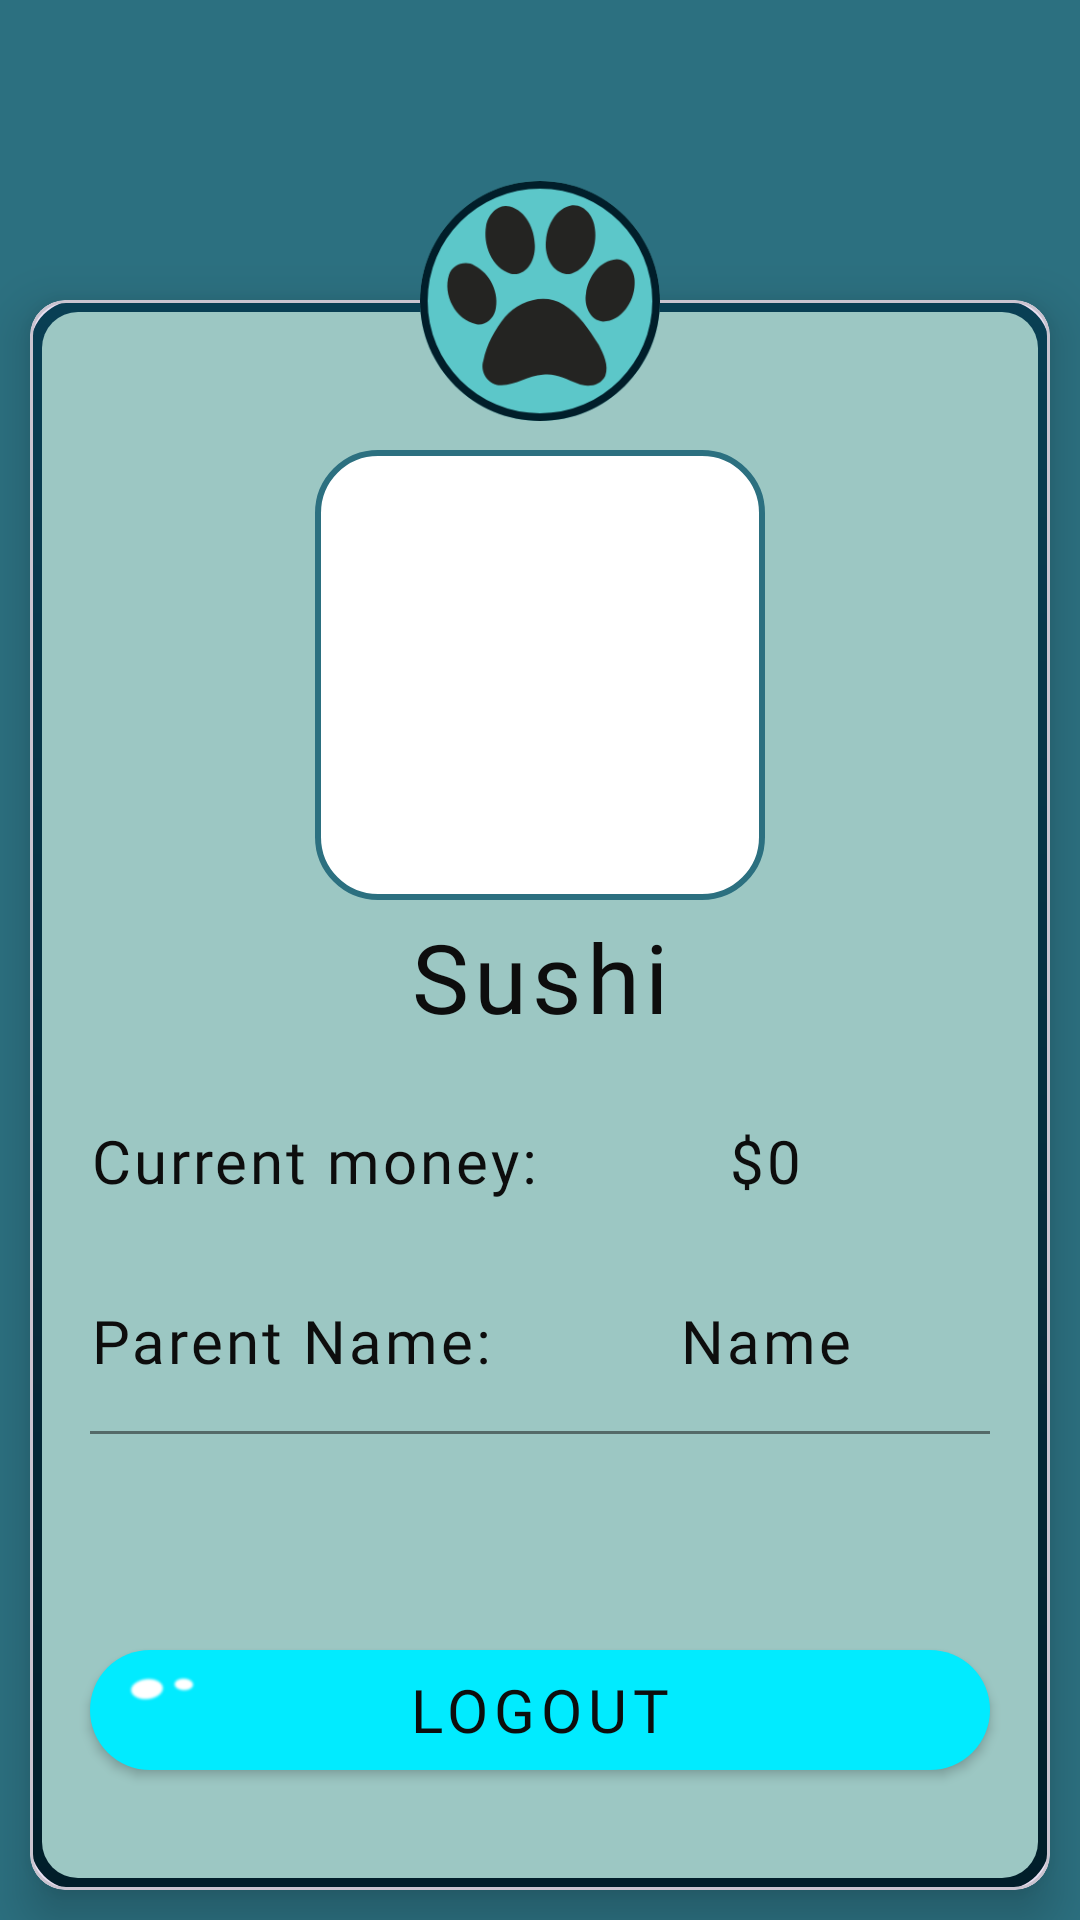

Where to tap for icons on this 1080w x 1920h app screen, as point (x, y):
pawprint: point (540, 301)
whitedots: point (162, 1689)
